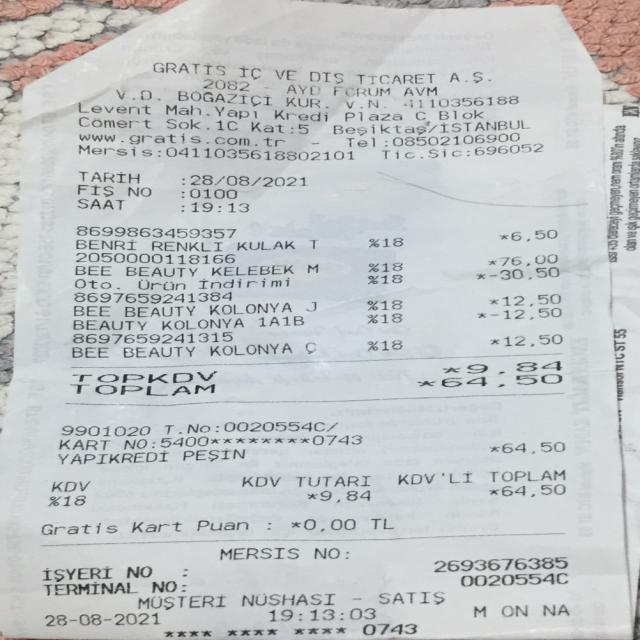text: (77, 132, 285, 147), (76, 222, 234, 239), (75, 249, 233, 265), (432, 556, 568, 573), (164, 147, 354, 159), (190, 170, 304, 190), (71, 331, 230, 343), (72, 291, 230, 303), (71, 370, 216, 382), (439, 374, 561, 388), (71, 382, 213, 394), (391, 133, 522, 146), (459, 571, 569, 586), (176, 90, 270, 106), (58, 451, 168, 464), (43, 613, 158, 625), (240, 593, 334, 607), (266, 608, 374, 620), (76, 100, 156, 116), (77, 115, 152, 132), (134, 594, 225, 608), (355, 70, 434, 86), (329, 122, 426, 135), (202, 262, 292, 276), (404, 96, 518, 107), (42, 581, 136, 594), (437, 119, 529, 132), (222, 420, 320, 432), (197, 276, 287, 289), (153, 61, 224, 77), (76, 143, 150, 158), (157, 315, 242, 328), (38, 520, 116, 534), (272, 106, 332, 124), (60, 424, 149, 436), (40, 566, 111, 581), (228, 236, 294, 252), (218, 546, 296, 559), (124, 263, 195, 277), (74, 317, 150, 330), (78, 168, 136, 185), (208, 342, 290, 354), (150, 237, 220, 251), (378, 590, 443, 605), (464, 362, 560, 372), (208, 302, 290, 313), (378, 147, 459, 158), (75, 237, 134, 252), (498, 484, 565, 497), (122, 304, 194, 316), (488, 308, 560, 320), (342, 108, 398, 123), (206, 76, 250, 95), (396, 471, 471, 482), (295, 474, 369, 485), (120, 345, 193, 356), (486, 268, 559, 279), (57, 436, 110, 451), (360, 621, 415, 635), (77, 195, 122, 212), (302, 516, 353, 531), (488, 470, 563, 480), (318, 488, 368, 503), (214, 104, 258, 121), (181, 448, 243, 460), (470, 143, 544, 153), (499, 293, 559, 305), (195, 518, 246, 532), (136, 276, 183, 291), (190, 201, 248, 213), (503, 333, 560, 345), (314, 432, 361, 446), (332, 86, 391, 97), (499, 441, 563, 451), (130, 520, 179, 533), (109, 87, 157, 100), (346, 96, 389, 110), (257, 314, 303, 327), (501, 254, 555, 265), (190, 187, 238, 199), (436, 108, 480, 121), (160, 434, 207, 446), (162, 103, 202, 117), (305, 69, 344, 83), (286, 94, 320, 110), (73, 277, 109, 292), (73, 264, 110, 278), (509, 229, 556, 240), (449, 69, 485, 83), (73, 184, 115, 196), (72, 305, 110, 318), (70, 345, 108, 358), (288, 80, 317, 97), (167, 116, 197, 132), (250, 120, 284, 134), (403, 84, 438, 97), (48, 480, 88, 491), (240, 476, 280, 487), (346, 135, 377, 149), (124, 564, 151, 580), (150, 579, 174, 594), (236, 66, 262, 79), (500, 603, 525, 616), (541, 603, 568, 615), (127, 184, 150, 198), (60, 493, 84, 506), (312, 546, 338, 558), (381, 235, 400, 251), (370, 516, 391, 530), (122, 438, 148, 449), (185, 422, 210, 433), (275, 68, 294, 82), (442, 362, 461, 376), (162, 421, 180, 435), (378, 299, 400, 310), (378, 312, 400, 323), (216, 118, 236, 130), (416, 376, 434, 389), (378, 339, 400, 349), (380, 262, 401, 272), (379, 274, 401, 283), (302, 341, 317, 354), (472, 603, 485, 616), (305, 261, 316, 276), (366, 235, 376, 251), (473, 269, 485, 282), (46, 494, 59, 506), (380, 135, 390, 150), (488, 484, 498, 499), (350, 591, 360, 606), (325, 420, 337, 432), (488, 442, 500, 454), (364, 274, 378, 284), (306, 489, 316, 503), (290, 517, 300, 531), (310, 134, 319, 149), (305, 300, 316, 312), (364, 299, 376, 310), (365, 339, 377, 350), (297, 123, 309, 134), (488, 294, 498, 307), (428, 120, 437, 134), (324, 95, 332, 110), (416, 108, 424, 123), (365, 262, 377, 272), (497, 230, 507, 242), (462, 144, 470, 158), (178, 578, 185, 594), (487, 256, 496, 268), (476, 310, 485, 322), (308, 236, 315, 251), (180, 563, 186, 580), (366, 313, 376, 323), (149, 438, 158, 449), (213, 420, 220, 434), (487, 334, 494, 346), (204, 118, 209, 133), (265, 521, 273, 530), (156, 145, 161, 158), (289, 124, 294, 135), (342, 550, 348, 559), (180, 202, 184, 214), (179, 176, 185, 184), (116, 277, 119, 291), (179, 190, 184, 198), (264, 78, 266, 95)
